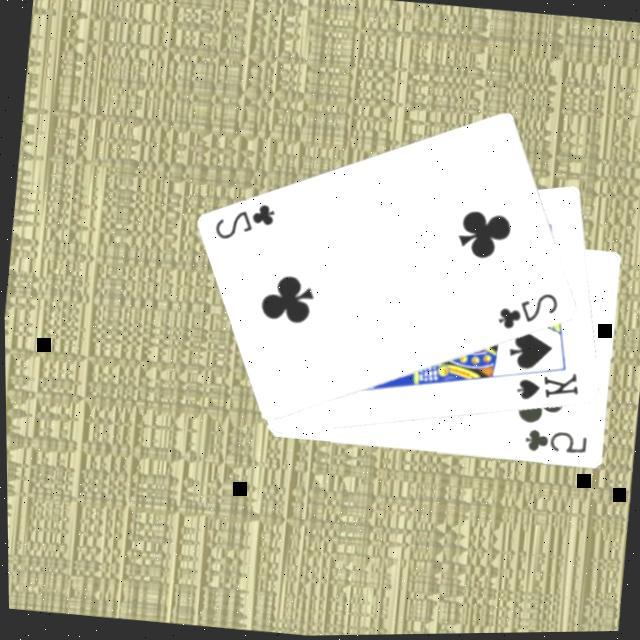2C: (206, 195, 278, 248), (490, 284, 560, 338)
5C: (518, 424, 588, 460)
KS: (508, 364, 582, 409)
